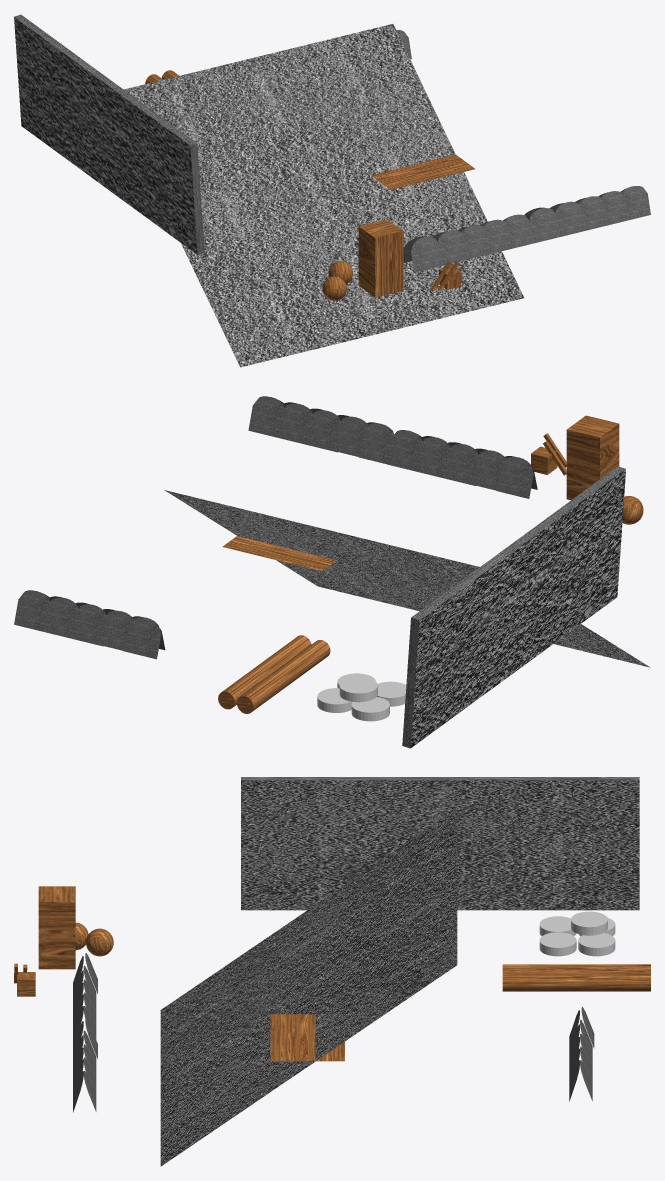
The model's file is Hittites Army onConstruction.fbx.
3 renders of one model, top to bottom at view 1: azimuth 30°, elevation 25°; view 2: azimuth 150°, elevation 25°; view 3: azimuth 270°, elevation 25°, orthographic. The views are drawn at different scales.
Visible parts, largest first — view 1: Cube.008, Cube.003, Cube.004, Plane.035, Plane.061, Plane.056, Plane.057, Plane.055, Plane.052, Plane.058, Plane.053, Plane.060 (+2 smaller); view 2: Cube.003, Cube.008, Cube.004, Cylinder.007, Cylinder, Plane.035, Plane.051, Plane.047, Plane.066, Plane.046, Plane.063, Plane.041 (+15 smaller); view 3: Cube.003, Cube.008, Cube.004, Cylinder, Plane.035, Cylinder.007, Cylinder.008, Cylinder.010, Cylinder.011, Sphere.002.
Part boxes in pixels (x1=…): Cube.008: x1=124, y1=24, x2=523, y2=367; Cube.003: x1=14, y1=14, x2=204, y2=254; Cube.004: x1=358, y1=219, x2=403, y2=297; Plane.035: x1=371, y1=154, x2=475, y2=189; Plane.061: x1=502, y1=214, x2=533, y2=250; Plane.056: x1=529, y1=208, x2=560, y2=243; Plane.057: x1=411, y1=236, x2=441, y2=272; Plane.055: x1=554, y1=201, x2=585, y2=236; Plane.052: x1=619, y1=186, x2=650, y2=219; Plane.058: x1=437, y1=230, x2=467, y2=266; Plane.053: x1=598, y1=191, x2=629, y2=226; Plane.060: x1=480, y1=219, x2=511, y2=255; Cube.003: x1=402, y1=466, x2=625, y2=748; Cube.008: x1=164, y1=490, x2=650, y2=667; Cube.004: x1=566, y1=415, x2=619, y2=500; Cylinder.007: x1=237, y1=640, x2=330, y2=713; Cylinder: x1=218, y1=635, x2=311, y2=709; Plane.035: x1=222, y1=536, x2=336, y2=571; Plane.051: x1=248, y1=396, x2=285, y2=438; Plane.047: x1=358, y1=423, x2=395, y2=465; Plane.066: x1=496, y1=456, x2=533, y2=498; Plane.046: x1=123, y1=617, x2=161, y2=659; Plane.063: x1=415, y1=437, x2=451, y2=478; Plane.041: x1=14, y1=590, x2=51, y2=631; Cube.003: x1=241, y1=777, x2=639, y2=910; Cube.008: x1=160, y1=809, x2=457, y2=1166; Cube.004: x1=38, y1=886, x2=75, y2=969; Cylinder: x1=502, y1=973, x2=650, y2=991; Plane.035: x1=270, y1=1014, x2=344, y2=1061; Cylinder.007: x1=502, y1=964, x2=650, y2=972; Cylinder.008: x1=539, y1=932, x2=576, y2=956; Cylinder.010: x1=571, y1=911, x2=607, y2=935; Cylinder.011: x1=578, y1=933, x2=615, y2=956; Sphere.002: x1=86, y1=928, x2=113, y2=956.
Size of the model in its own units: 1360 by 672 by 1717.
